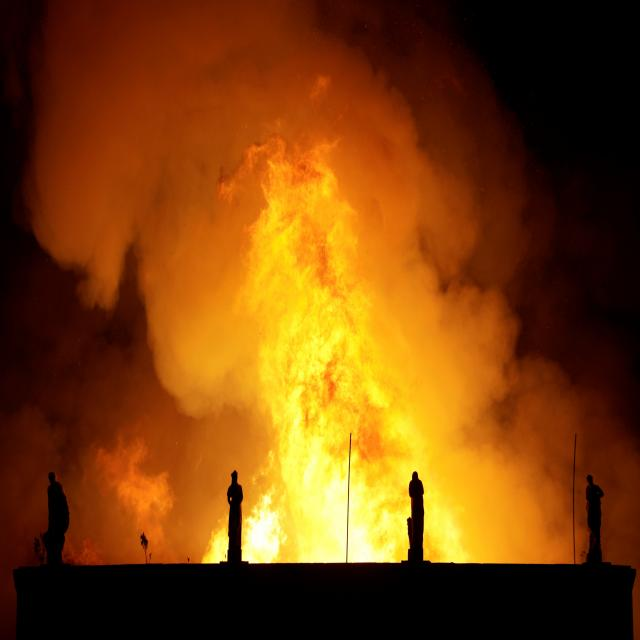Fire: (233, 135, 474, 564)
